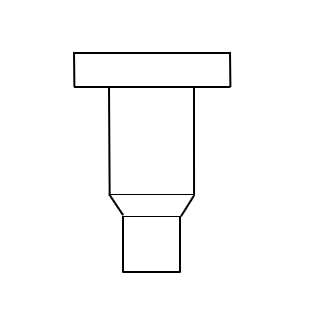nrfp: (102, 42, 199, 187)
